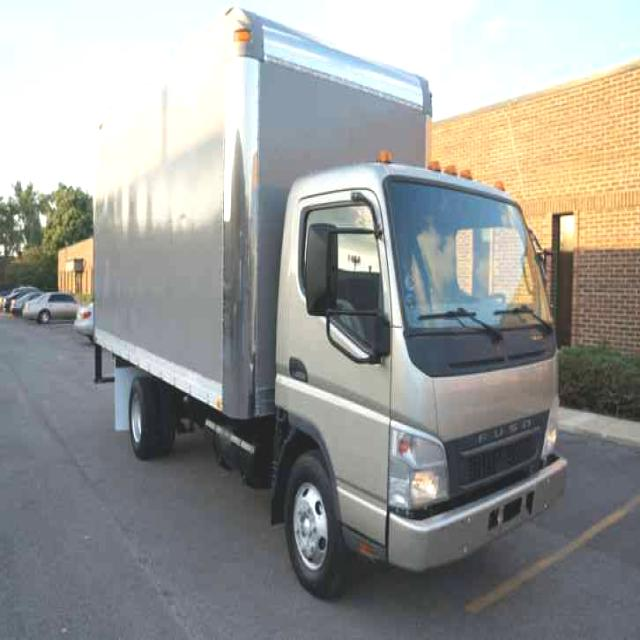truck: (94, 8, 568, 596)
